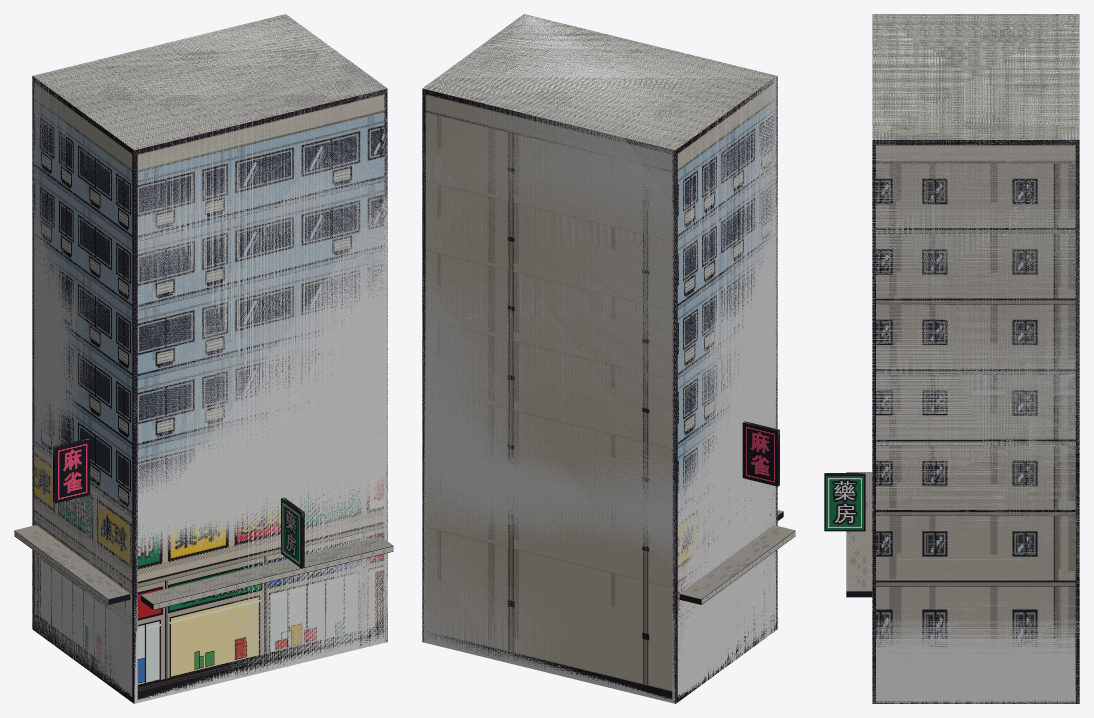
3 views of the same model, side by side, from view 1: azimuth 30°, elevation 25°; view 2: azimuth 150°, elevation 25°; view 3: azimuth 270°, elevation 25° (orthographic).
Parts seen in each view (by area): view 1: 19D-W19, COL_19D-W19_0; view 2: 19D-W19, COL_19D-W19_0; view 3: 19D-W19, COL_19D-W19_0.
Boxes of the visible parts, box(x1,y1,x2,y2) form: 19D-W19: box(14, 14, 393, 703); COL_19D-W19_0: box(32, 14, 387, 703); 19D-W19: box(422, 14, 795, 703); COL_19D-W19_0: box(422, 14, 777, 703); 19D-W19: box(824, 14, 1079, 703); COL_19D-W19_0: box(872, 14, 1079, 703).
Bounding box in the file's own units: 13.35 × 24 × 9.85.
1 material, 1 textured.
